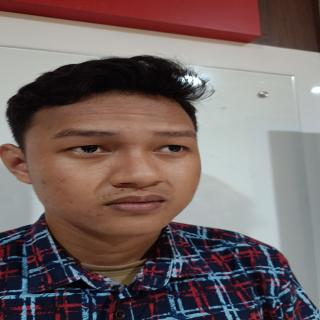Takut: (20, 80, 211, 242)
